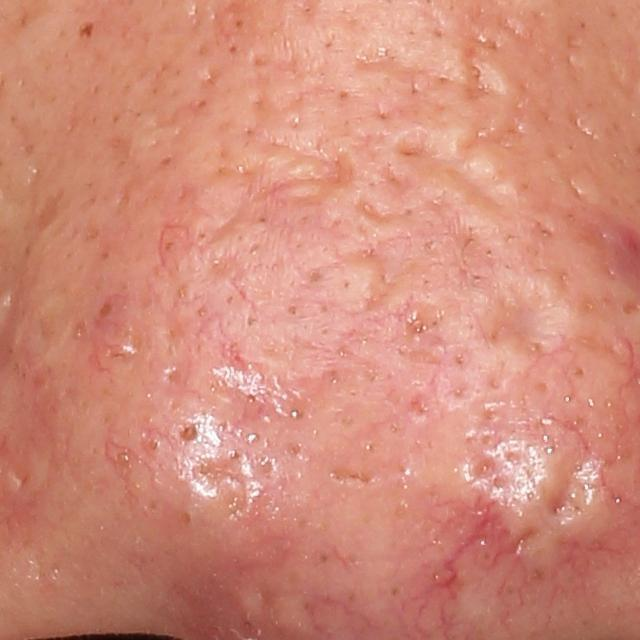atrophic_scar: (193, 149, 298, 255), (396, 130, 516, 209), (181, 449, 258, 505), (540, 457, 600, 521), (501, 289, 563, 349), (459, 51, 510, 103), (448, 226, 503, 273), (357, 49, 428, 85), (380, 165, 420, 193), (357, 198, 394, 226)
